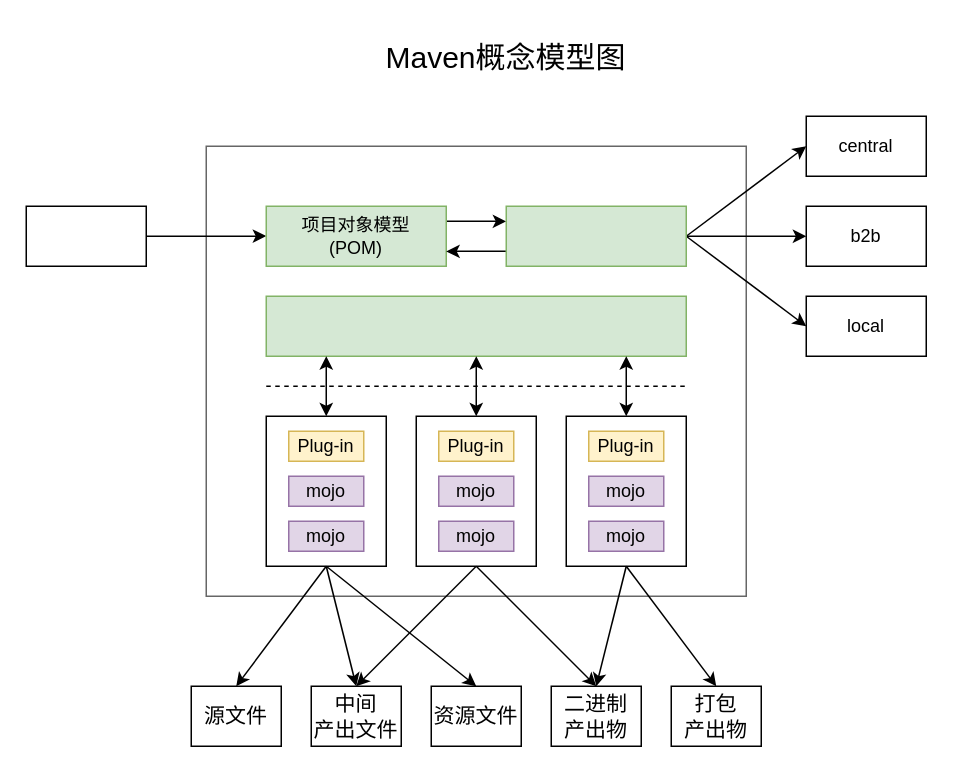
Some shapes in this 953 by 773 pixel diagram are drawn without their labels. Here are the shapes that lost their labels. From the top down, the centre of each, then its label:
At point (85, 235): "POM.xml".
At point (595, 235): "依赖管理模型 (Dependency)".
At point (475, 325): "Build lifecycle & phases".
